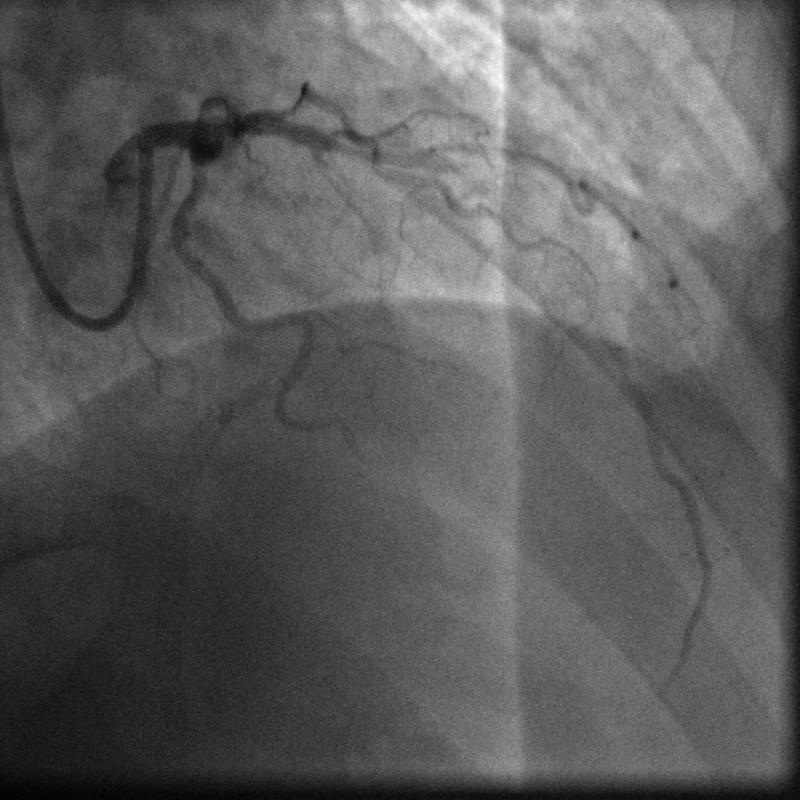Stenosis: (333, 139, 444, 169)
